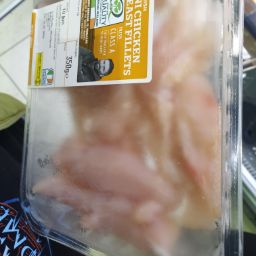Chicken Thigh Fillets: (48, 91, 194, 236), (162, 9, 212, 235)
